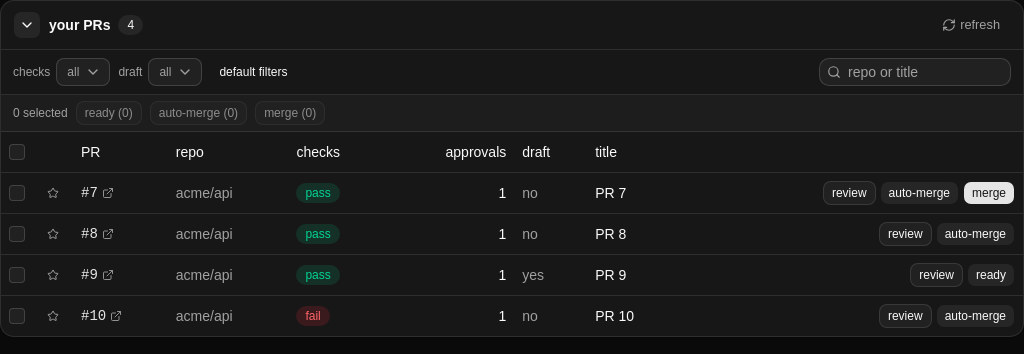
Scenario: PrTable › counts the checked PRs each bulk action applies to
expect the text "PR 7" is shown: met, box [587,172,678,213]
expect the button "auto-merge (0)" is disabled: met, box [150,101,247,125]
Click the checkbox named "select acme/api#7" at (17, 192), box [9,184,25,200]
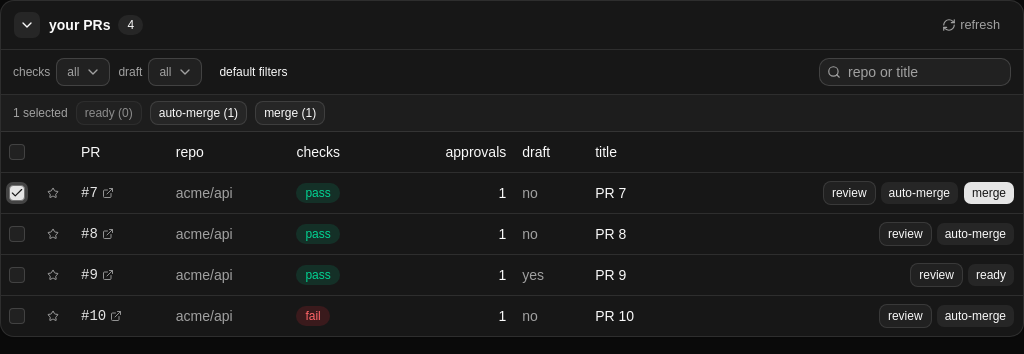
Click the checkbox named "select acme/api#9" at (17, 274), box [9,266,25,282]
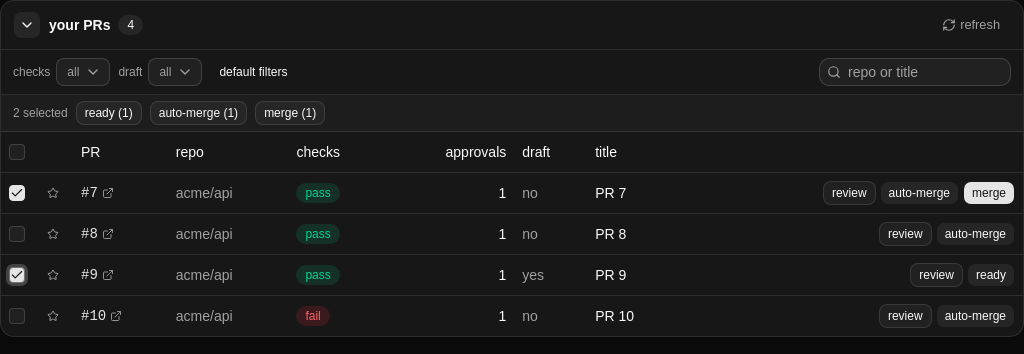
expect the button "auto-merge (1)" is enabled: met, box [150,101,247,125]
expect the text with test id "picked-count" reads "2 selected": met, box [13,105,68,121]
expect the button "ready (1)" is enabled: met, box [76,101,142,125]
Click the checkbox named "select all shown" at (17, 152), box [9,144,25,160]
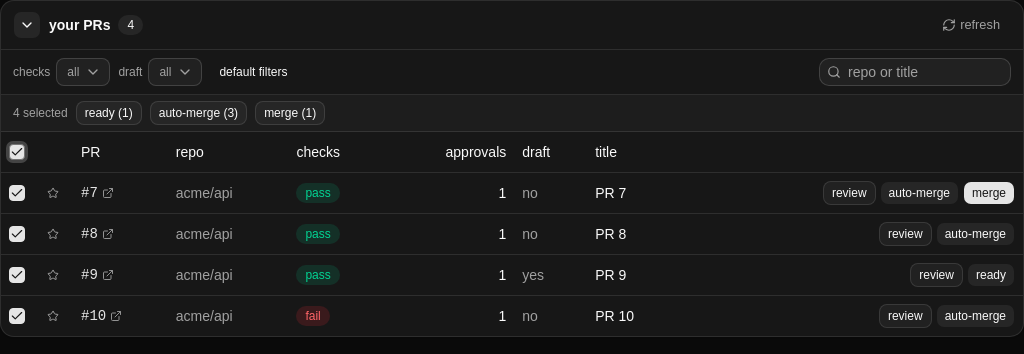
expect the button "auto-merge (3)" is enabled: met, box [150,101,247,125]
expect the text with test id "picked-count" reads "4 selected": met, box [13,105,68,121]
